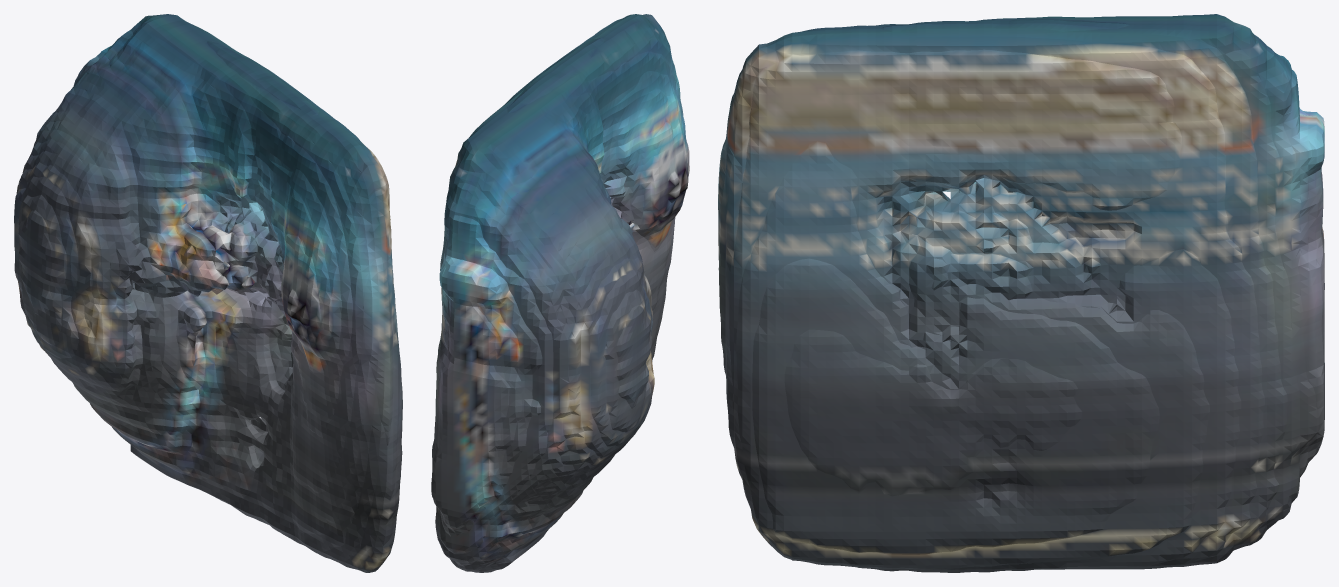
Rendered from test_02_characters__characters_0002_82-2301311SA3T5_VERTEX_COLOR.glb.
The picture shows the model from 3 angles, left to right: view 1: azimuth 30°, elevation 25°; view 2: azimuth 150°, elevation 25°; view 3: azimuth 270°, elevation 25°; orthographic projection. The views are drawn at different scales.
Parts seen in each view (by area): view 1: geometry_0; view 2: geometry_0; view 3: geometry_0.
Boxes of the visible parts, x1,y1,x2,y2 form: geometry_0: (14, 14, 402, 572); geometry_0: (431, 14, 689, 572); geometry_0: (718, 14, 1324, 572).
Size of the model in its own units: 0.4598 by 0.9878 by 0.9988.
